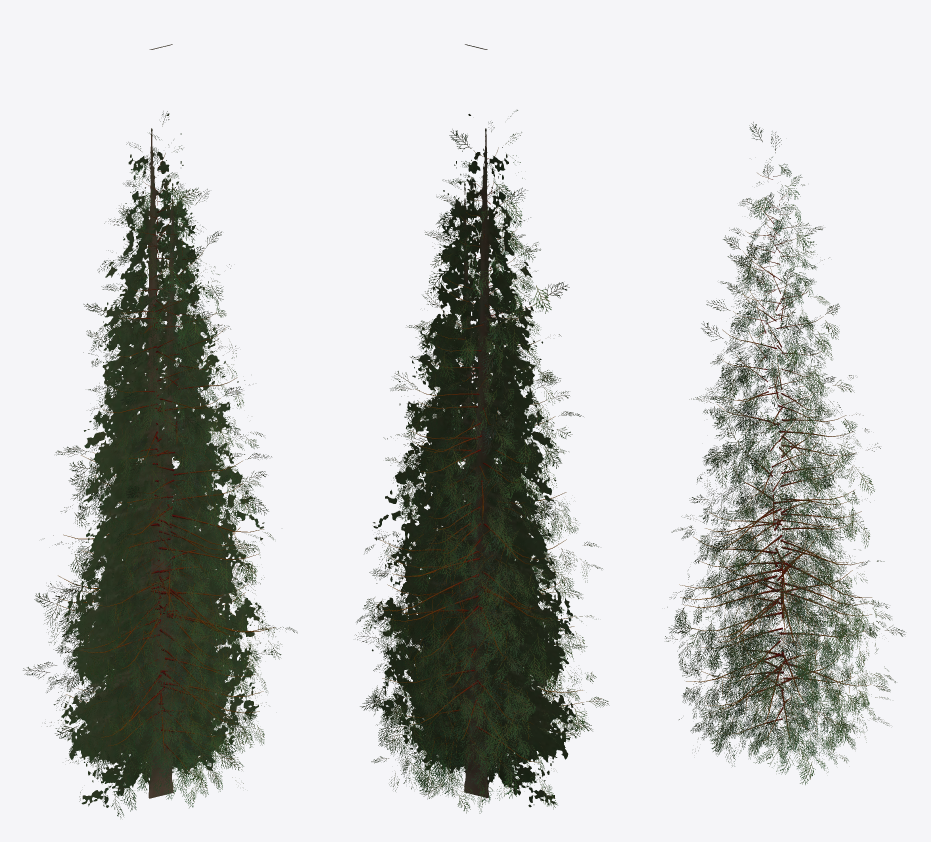
File: fichte.glb
3 views of the same model, side by side, from view 1: azimuth 30°, elevation 25°; view 2: azimuth 150°, elevation 25°; view 3: azimuth 270°, elevation 25° (orthographic). The views are drawn at different scales.
Parts seen in each view (by area): view 1: v2_imp, v0_imp, v2_lod0, v0_lod0, v1_lod0, v1_imp; view 2: v1_imp, v1_lod0, v2_imp, v2_lod0, v0_lod0, v0_imp; view 3: v0_lod0, v2_lod0, v1_lod0.
Boxes of the visible parts, x1=… form: v2_imp: x1=53, y1=44, x2=265, y2=798; v0_imp: x1=57, y1=174, x2=264, y2=797; v2_lod0: x1=38, y1=111, x2=283, y2=793; v0_lod0: x1=44, y1=187, x2=297, y2=807; v1_lod0: x1=23, y1=147, x2=277, y2=817; v1_imp: x1=61, y1=144, x2=263, y2=807; v1_imp: x1=374, y1=144, x2=576, y2=807; v1_lod0: x1=356, y1=161, x2=598, y2=813; v2_imp: x1=372, y1=44, x2=583, y2=796; v2_lod0: x1=360, y1=110, x2=602, y2=798; v0_lod0: x1=355, y1=179, x2=609, y2=813; v0_imp: x1=373, y1=174, x2=580, y2=794; v0_lod0: x1=665, y1=207, x2=889, y2=774; v2_lod0: x1=668, y1=122, x2=895, y2=784; v1_lod0: x1=667, y1=175, x2=905, y2=771.
Size of what is drawn, in the model's own units: 8.44 by 23.57 by 8.09.
2 materials, 2 textured.
